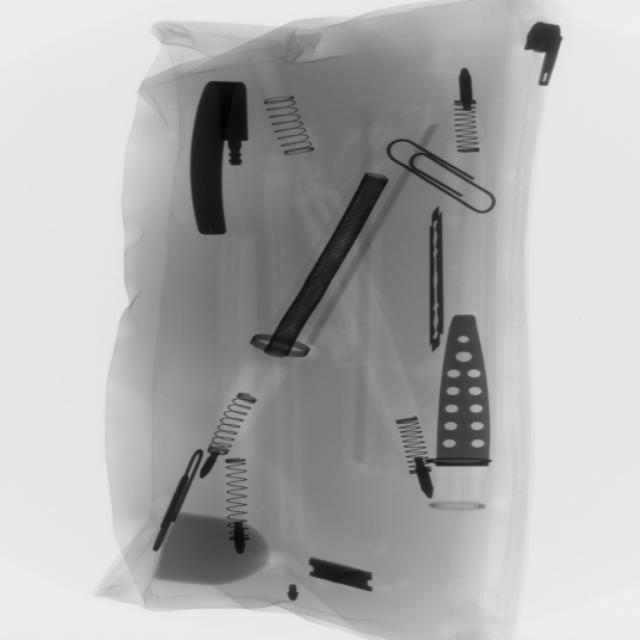SHURIKEN: (418, 208, 459, 364)
